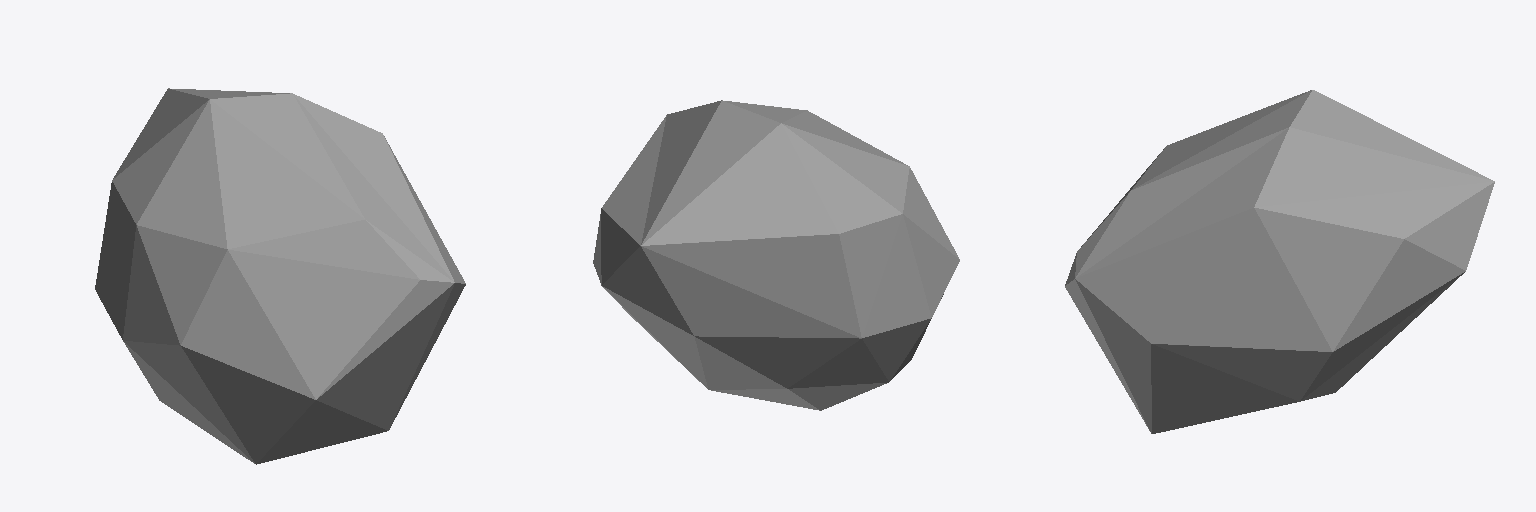
File: rock.obj
The picture shows the model from 3 angles: view 1: azimuth 30°, elevation 25°; view 2: azimuth 150°, elevation 25°; view 3: azimuth 270°, elevation 25°; orthographic projection.
Parts seen in each view (by area): view 1: Sphere.001; view 2: Sphere.001; view 3: Sphere.001.
Part boxes in pixels (x1,y1,x2,y2): Sphere.001: (95,88,465,464); Sphere.001: (593,100,959,410); Sphere.001: (1065,90,1494,433).
Size of the model in its own units: 2.35 by 2.3 by 2.95.